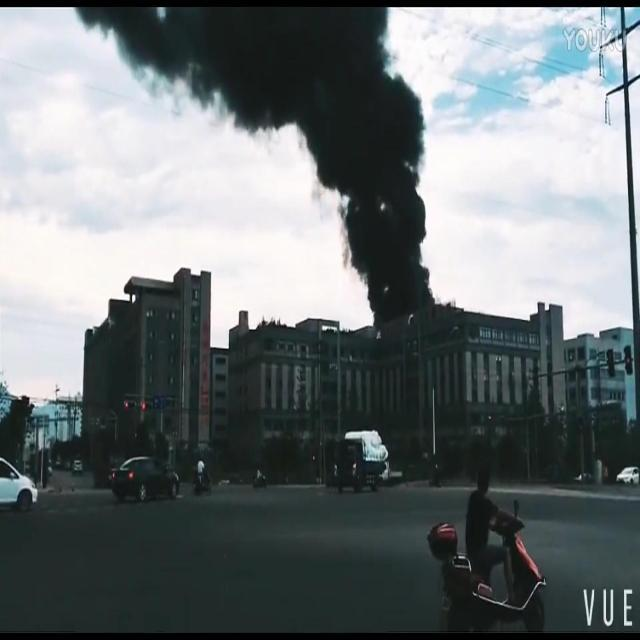Smoke: (75, 7, 432, 325)
